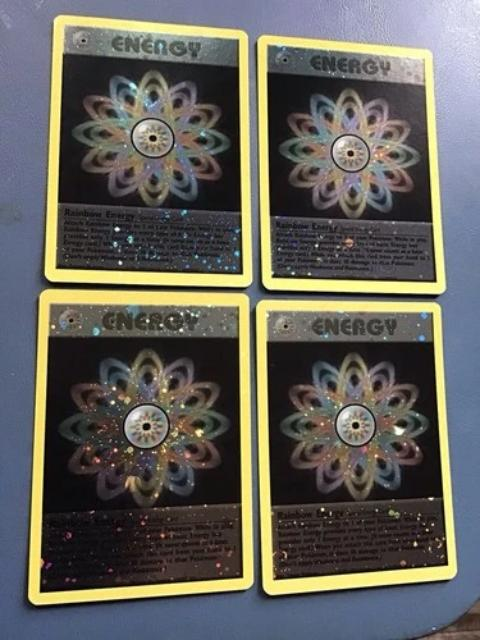Card: (24, 285, 257, 612), (254, 296, 462, 601), (37, 8, 257, 293), (252, 30, 450, 299)
Name: (43, 509, 132, 531), (272, 502, 351, 524), (62, 204, 138, 223), (271, 217, 342, 235)
